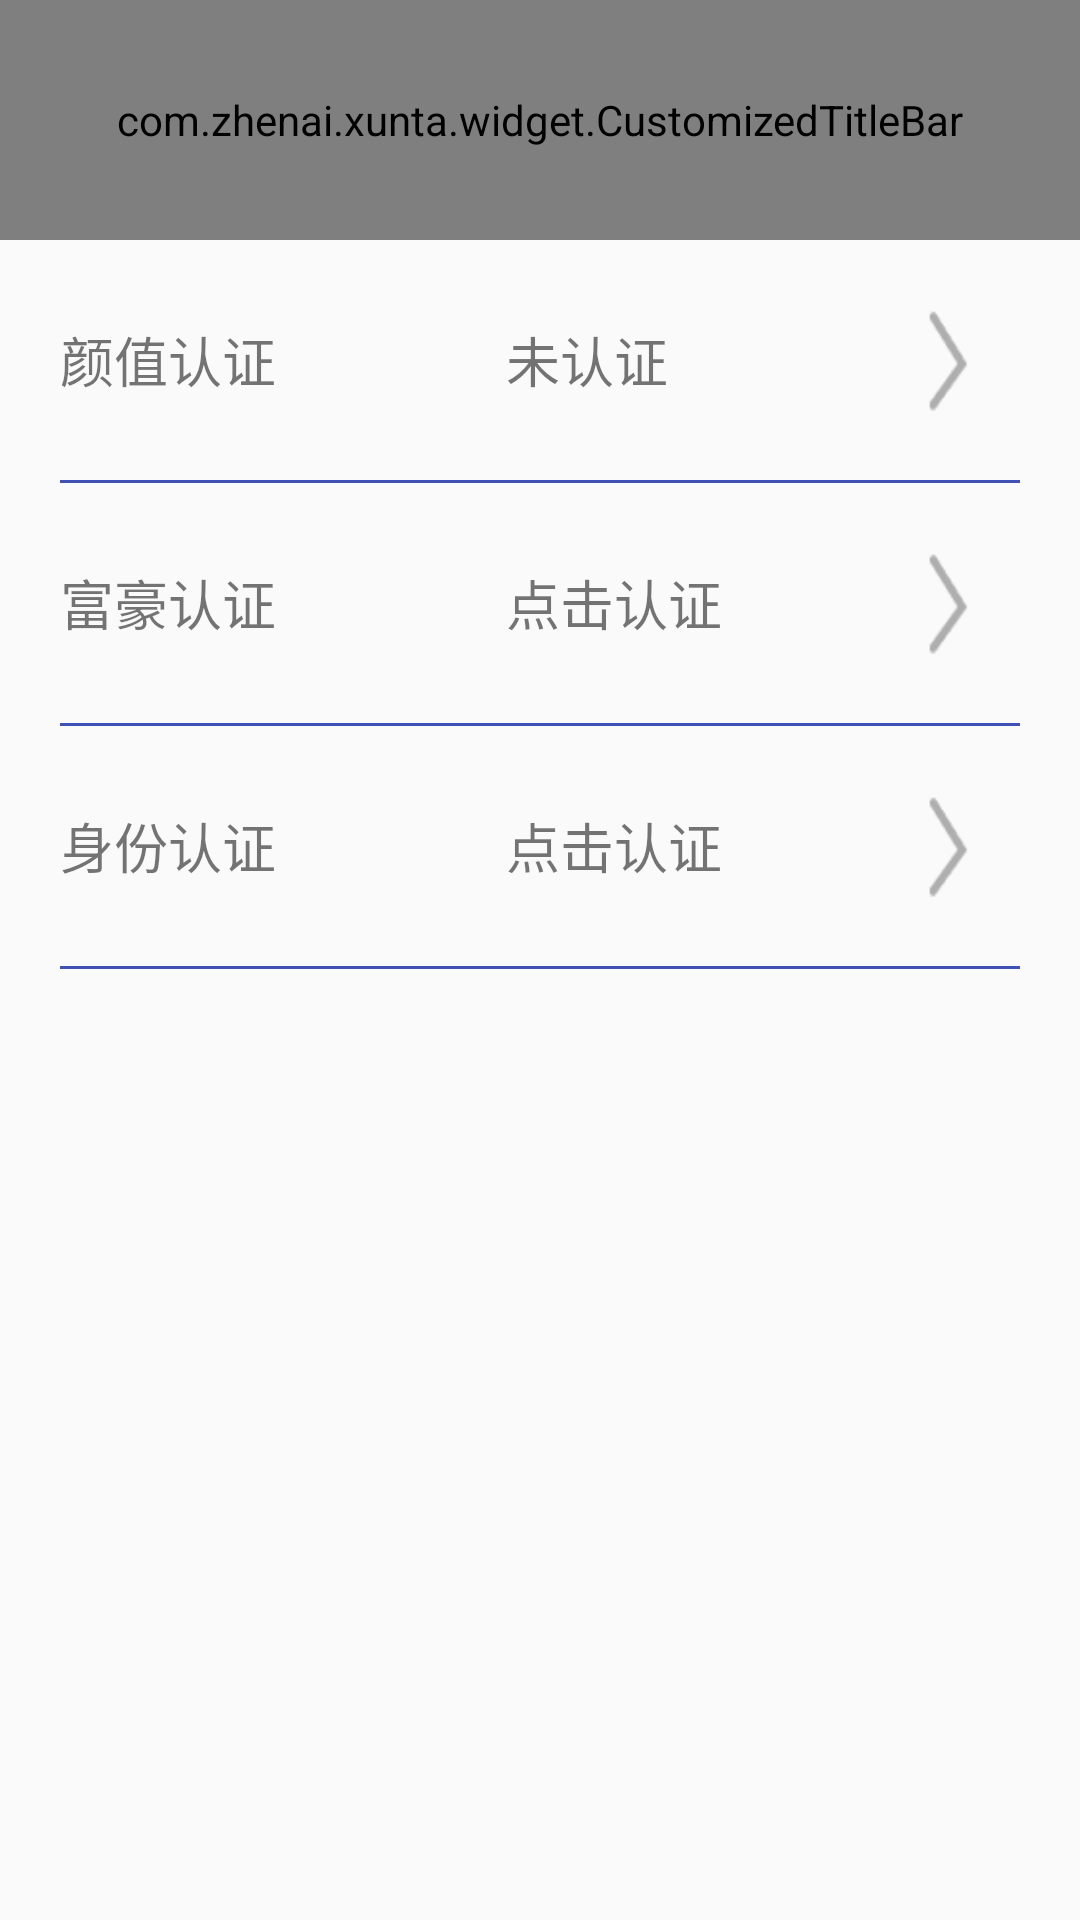

Where icons sit on this 1080px×1920px app screen, as rect(x1, y1, x2, y2):
arrow: rect(930, 312, 967, 410), rect(930, 555, 967, 653), rect(930, 798, 967, 897)
